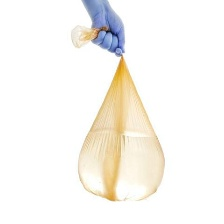plastic_bag: (67, 20, 167, 205)
